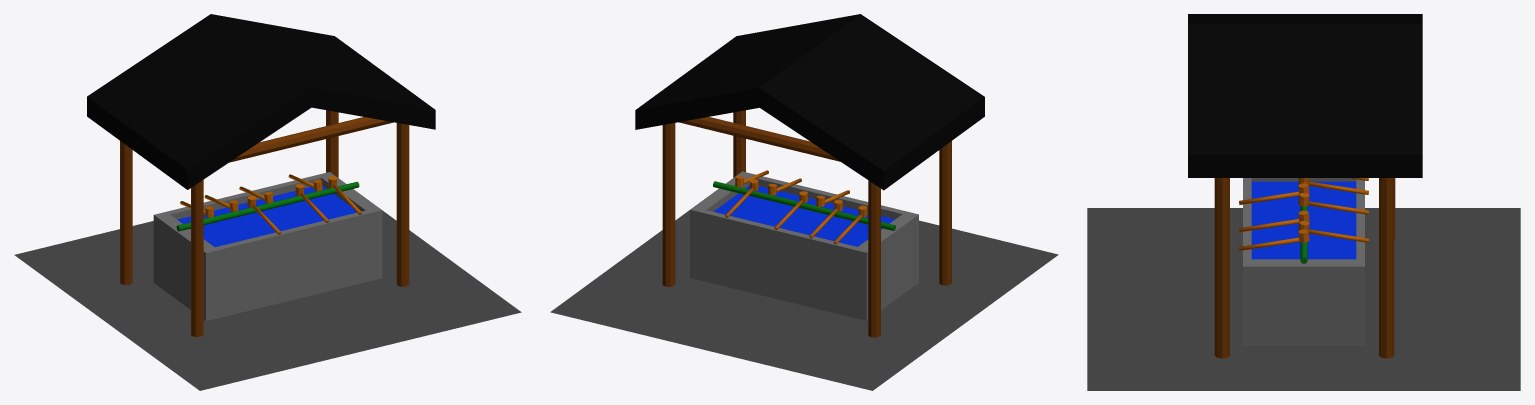
The model's file is 手水舎.fbx.
The picture shows the model from 3 angles, left to right: view 1: azimuth 30°, elevation 25°; view 2: azimuth 150°, elevation 25°; view 3: azimuth 270°, elevation 25°; orthographic projection. The views are drawn at different scales.
Parts seen in each view (by area): view 1: 平面, 立方体.002, 立方体, 立方体.001, 円柱.009, 円柱.008, 円柱.015, 円柱.010, 円柱, 円柱.011; view 2: 平面, 立方体.002, 立方体, 立方体.001, 円柱.011, 円柱.010, 円柱.008, 円柱.014, 円柱, 円柱.009; view 3: 平面, 立方体.002, 立方体, 立方体.001, 円柱.009, 円柱.011, 円柱.001, 円柱.004, 円柱.006, 円柱.007, 円柱.003, 円柱.002.
Part boxes in pixels (x1=…): 平面: x1=14, y1=210, x2=521, y2=390; 立方体.002: x1=87, y1=14, x2=435, y2=189; 立方体: x1=153, y1=172, x2=382, y2=320; 立方体.001: x1=177, y1=185, x2=356, y2=247; 円柱.009: x1=396, y1=123, x2=409, y2=286; 円柱.008: x1=191, y1=180, x2=203, y2=336; 円柱.015: x1=229, y1=117, x2=393, y2=162; 円柱.010: x1=120, y1=141, x2=132, y2=284; 円柱: x1=176, y1=181, x2=359, y2=231; 円柱.011: x1=326, y1=110, x2=338, y2=177; 平面: x1=550, y1=210, x2=1058, y2=390; 立方体.002: x1=635, y1=14, x2=984, y2=190; 立方体: x1=690, y1=171, x2=918, y2=320; 立方体.001: x1=713, y1=185, x2=894, y2=246; 円柱.011: x1=662, y1=123, x2=675, y2=286; 円柱.010: x1=868, y1=180, x2=880, y2=337; 円柱.008: x1=939, y1=141, x2=951, y2=285; 円柱.014: x1=679, y1=117, x2=840, y2=161; 円柱: x1=713, y1=181, x2=895, y2=230; 円柱.009: x1=733, y1=110, x2=745, y2=177; 平面: x1=1087, y1=208, x2=1520, y2=390; 立方体.002: x1=1188, y1=14, x2=1422, y2=177; 立方体: x1=1243, y1=178, x2=1364, y2=345; 立方体.001: x1=1251, y1=181, x2=1356, y2=259; 円柱.009: x1=1214, y1=178, x2=1229, y2=358; 円柱.011: x1=1379, y1=178, x2=1394, y2=358; 円柱.001: x1=1298, y1=193, x2=1368, y2=214; 円柱.004: x1=1239, y1=229, x2=1309, y2=250; 円柱.006: x1=1239, y1=210, x2=1309, y2=232; 円柱.007: x1=1239, y1=183, x2=1309, y2=204; 円柱.003: x1=1298, y1=221, x2=1368, y2=242; 円柱.002: x1=1298, y1=178, x2=1368, y2=194.
Size of the model in its own units: 711 by 493 by 711.
